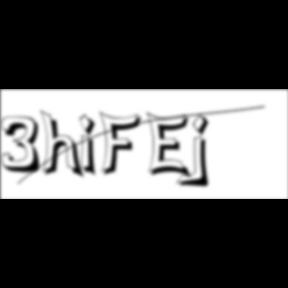3: (1, 116, 47, 176)
E: (146, 110, 196, 182)
F: (100, 110, 148, 178)
h: (40, 108, 88, 182)
i: (79, 112, 103, 180)
j: (190, 113, 216, 191)
